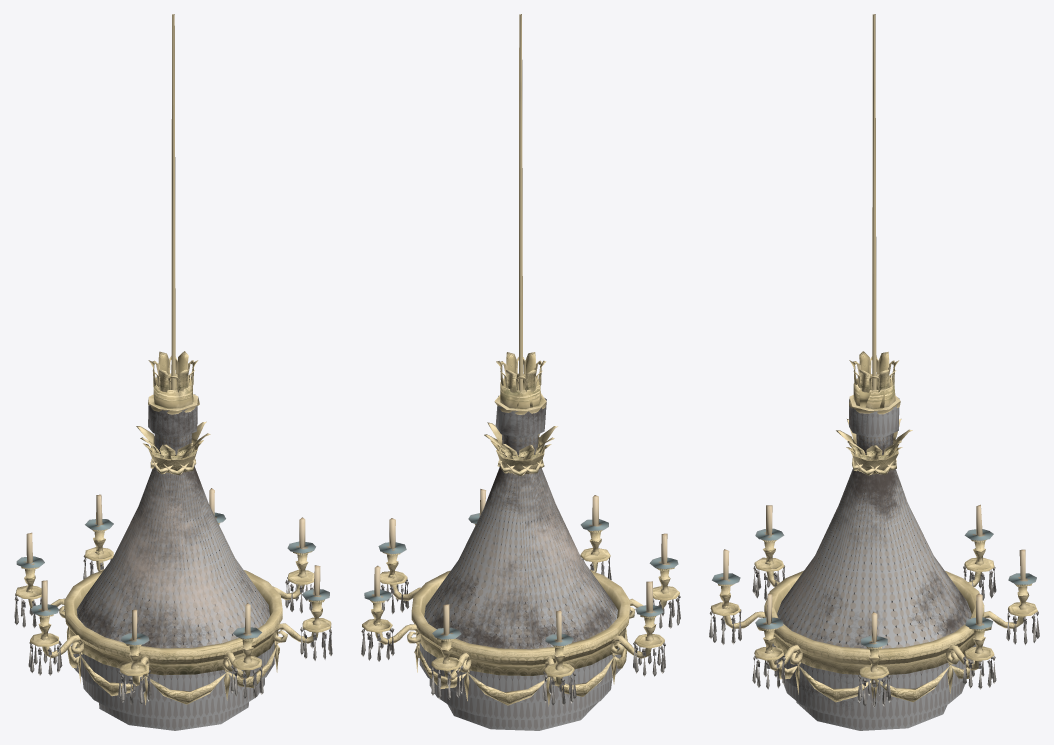
Rendered from Luste_new.fbx.
3 views of the same model, side by side, from view 1: azimuth 30°, elevation 25°; view 2: azimuth 150°, elevation 25°; view 3: azimuth 270°, elevation 25° (orthographic).
Visible parts, largest first — view 1: SM_LusteBossRoom; view 2: SM_LusteBossRoom; view 3: SM_LusteBossRoom.
Boxes of the visible parts, x1,y1,x2,y2 form: SM_LusteBossRoom: (14,14,332,730); SM_LusteBossRoom: (361,14,680,730); SM_LusteBossRoom: (709,14,1039,730).
Bounding box in the file's own units: 107 × 249 × 106.
